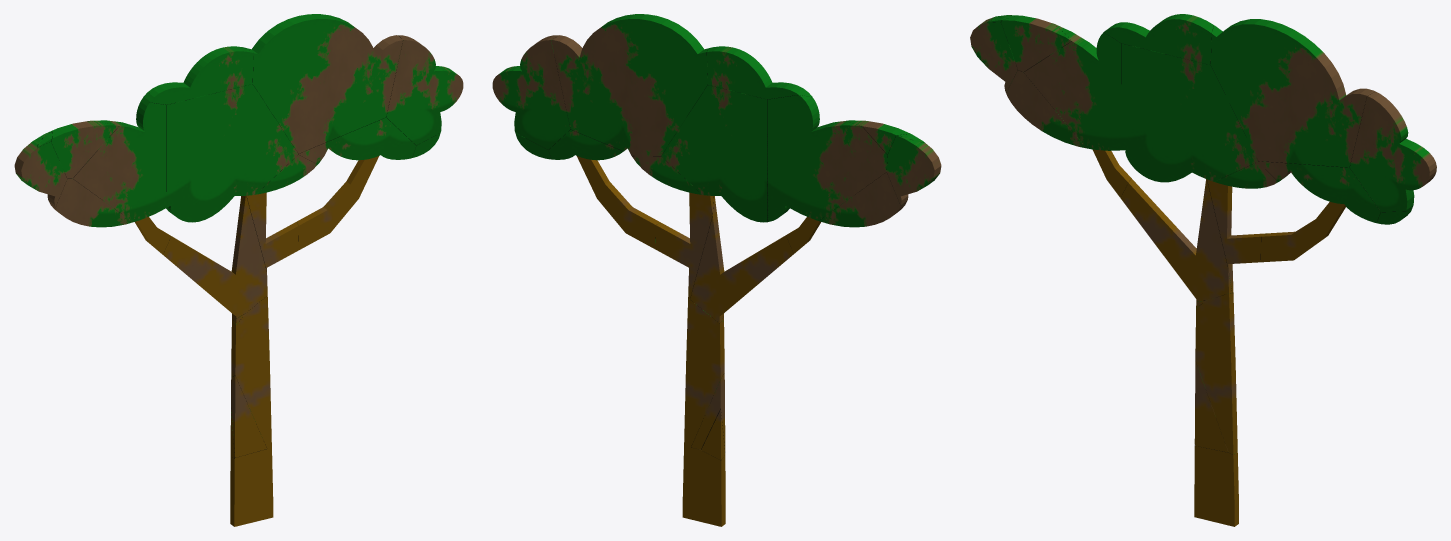
File: Arbol3.fbx
3 views of the same model, side by side, from view 1: azimuth 30°, elevation 25°; view 2: azimuth 150°, elevation 25°; view 3: azimuth 330°, elevation 25° (orthographic). The views are drawn at different scales.
Parts seen in each view (by area): view 1: arbol 3_cell.003, arbol 3_cell.007, arbol 3_cell.012, arbol 3.001_cell.012, arbol 3_cell.002, arbol 3.001_cell.011, arbol 3_cell, arbol 3.001_cell.010, arbol 3_cell.008, arbol 3.001_cell.004, arbol 3_cell.010, arbol 3_cell.004 (+5 smaller); view 2: arbol 3_cell.003, arbol 3_cell.012, arbol 3_cell.007, arbol 3_cell.002, arbol 3.001_cell.012, arbol 3.001_cell.011, arbol 3.001_cell.010, arbol 3_cell, arbol 3.001_cell.003, arbol 3_cell.004, arbol 3_cell.011, arbol 3.001_cell.004 (+6 smaller); view 3: arbol 3_cell.003, arbol 3_cell.007, arbol 3_cell.012, arbol 3_cell.002, arbol 3.001_cell.012, arbol 3.001_cell.011, arbol 3_cell, arbol 3.001_cell.010, arbol 3_cell.008, arbol 3_cell.010, arbol 3.001_cell.004, arbol 3_cell.011 (+5 smaller).
Part boxes in pixels (x1,y1,x2,y2): arbol 3_cell.003: (243, 14, 402, 153); arbol 3_cell.007: (166, 84, 298, 222); arbol 3_cell.012: (73, 90, 172, 221); arbol 3.001_cell.012: (160, 195, 267, 320); arbol 3_cell.002: (386, 35, 463, 145); arbol 3.001_cell.011: (231, 296, 271, 448); arbol 3_cell: (149, 46, 253, 104); arbol 3.001_cell.010: (230, 449, 273, 526); arbol 3_cell.008: (298, 117, 415, 164); arbol 3.001_cell.004: (297, 156, 378, 250); arbol 3_cell.010: (51, 121, 118, 178); arbol 3_cell.004: (14, 130, 67, 206); arbol 3_cell.003: (551, 14, 708, 155); arbol 3_cell.012: (767, 95, 887, 221); arbol 3_cell.007: (661, 85, 789, 222); arbol 3_cell.002: (492, 35, 570, 149); arbol 3.001_cell.012: (690, 196, 795, 323); arbol 3.001_cell.011: (684, 299, 724, 447); arbol 3.001_cell.010: (682, 447, 725, 526); arbol 3_cell: (707, 46, 812, 99); arbol 3.001_cell.003: (655, 192, 713, 299); arbol 3_cell.004: (886, 135, 941, 205); arbol 3_cell.011: (819, 172, 906, 227); arbol 3.001_cell.004: (577, 156, 660, 249); arbol 3_cell.003: (1210, 19, 1375, 167); arbol 3_cell.007: (1121, 43, 1258, 182); arbol 3_cell.012: (1023, 23, 1121, 150); arbol 3_cell.002: (1349, 92, 1436, 212); arbol 3.001_cell.012: (1120, 178, 1231, 301); arbol 3.001_cell.011: (1195, 293, 1237, 454); arbol 3_cell: (1104, 14, 1213, 64); arbol 3.001_cell.010: (1194, 446, 1238, 526); arbol 3_cell.008: (1258, 161, 1380, 222); arbol 3_cell.010: (1001, 15, 1071, 71); arbol 3.001_cell.004: (1260, 202, 1345, 262); arbol 3_cell.011: (1006, 70, 1085, 148).
Bounding box in the file's own units: 669 × 708 × 17.73.
